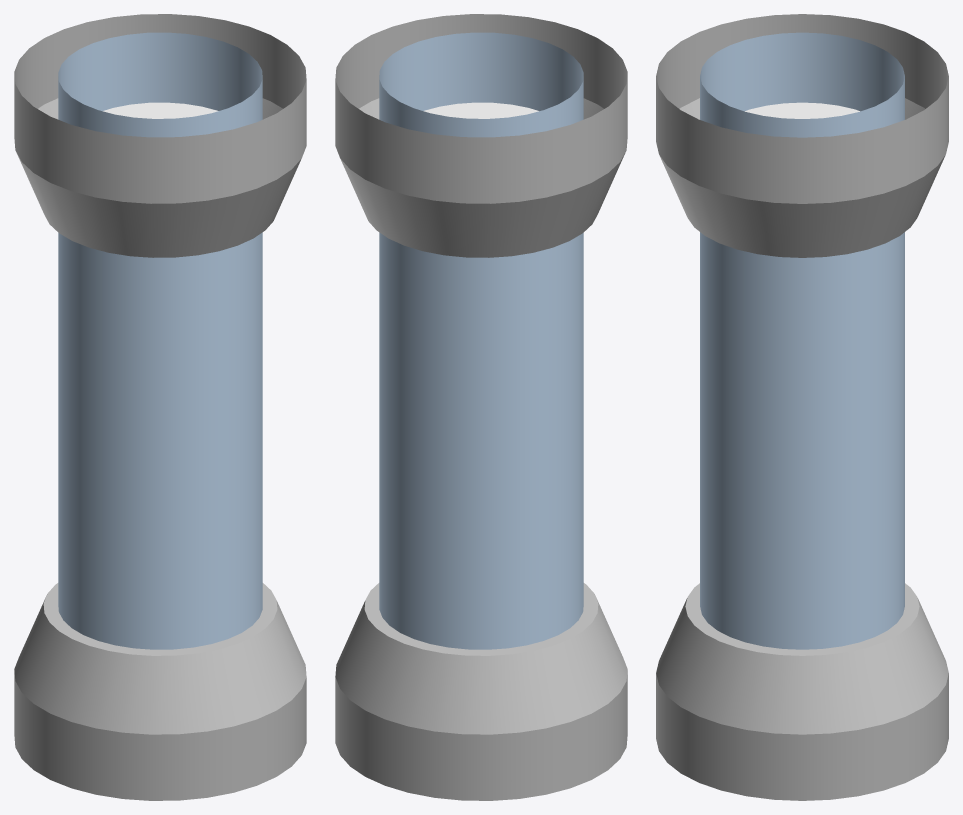
Rendered from EnergyCell.obj.
3 renders of one model, left to right at view 1: azimuth 30°, elevation 25°; view 2: azimuth 150°, elevation 25°; view 3: azimuth 270°, elevation 25°, orthographic.
Parts seen in each view (by area): view 1: EnergyCell_Cube; view 2: EnergyCell_Cube; view 3: EnergyCell_Cube.
Boxes of the visible parts, x1,y1,x2,y2 form: EnergyCell_Cube: (14, 14, 306, 800); EnergyCell_Cube: (335, 14, 627, 800); EnergyCell_Cube: (656, 14, 948, 800).
Size of the model in its own units: 2 by 5 by 2.
